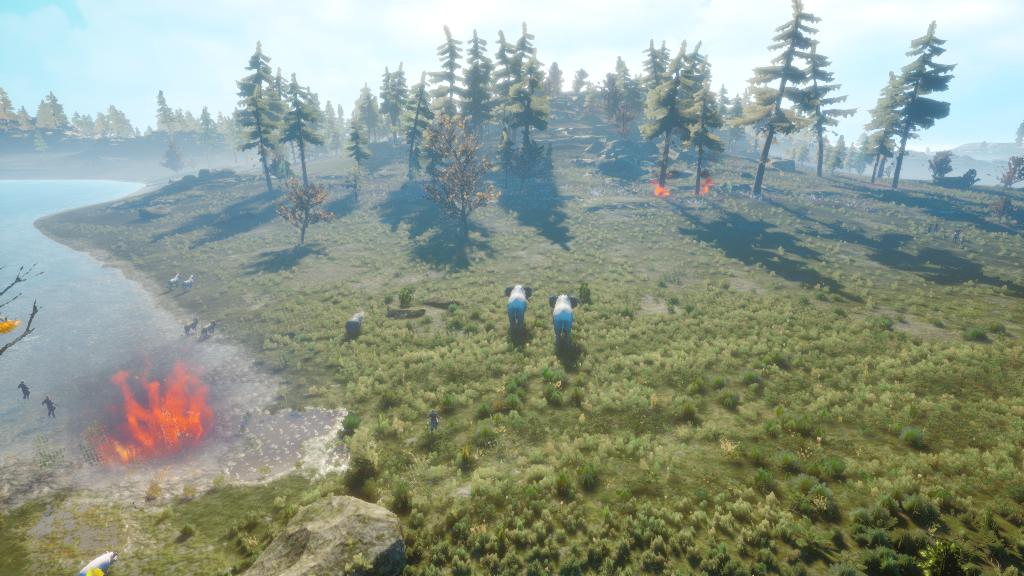Fire: (73, 353, 242, 482)
elephant: (546, 292, 582, 349), (501, 282, 535, 335)
hippopotamus: (342, 308, 372, 342)
human: (418, 407, 454, 443), (37, 391, 64, 430), (14, 371, 35, 410)
lion: (200, 318, 220, 341), (181, 316, 201, 337)
zebra: (179, 272, 197, 295), (165, 272, 181, 292)
